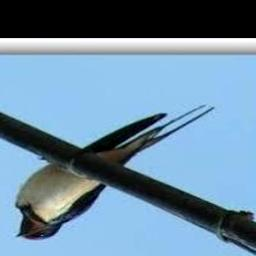Swallow: (14, 104, 214, 240)
